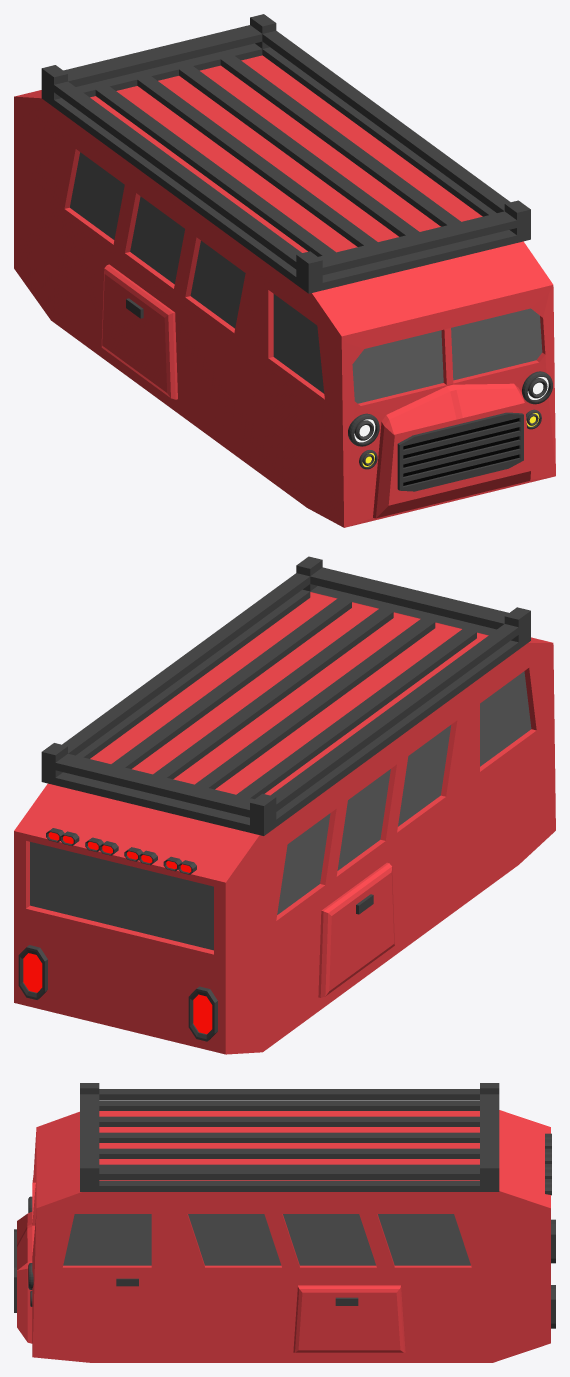
File: Ban_body.glb
The picture shows the model from 3 angles, top to bottom: view 1: azimuth 30°, elevation 25°; view 2: azimuth 150°, elevation 25°; view 3: azimuth 270°, elevation 25°; orthographic projection. The views are drawn at different scales.
Parts seen in each view (by area): view 1: Ban.001, Cubo.016, Cubo.015, Cilindro.002; view 2: Ban.001, Cubo.016, Cubo.017; view 3: Ban.001, Cubo.016, Cubo.017.
Boxes of the visible parts, x1,y1,x2,y2 form: Ban.001: [14, 55, 555, 527]; Cubo.016: [41, 14, 530, 293]; Cubo.015: [397, 412, 523, 491]; Cilindro.002: [348, 371, 552, 446]; Ban.001: [14, 592, 555, 1054]; Cubo.016: [41, 556, 530, 835]; Cubo.017: [18, 828, 217, 1041]; Ban.001: [17, 1110, 550, 1362]; Cubo.016: [80, 1083, 499, 1191]; Cubo.017: [545, 1133, 555, 1328].
Size of the model in its own units: 3.57 by 3.66 by 9.14.
